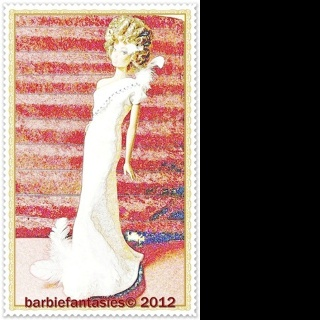without_mask: (111, 36, 137, 67)
